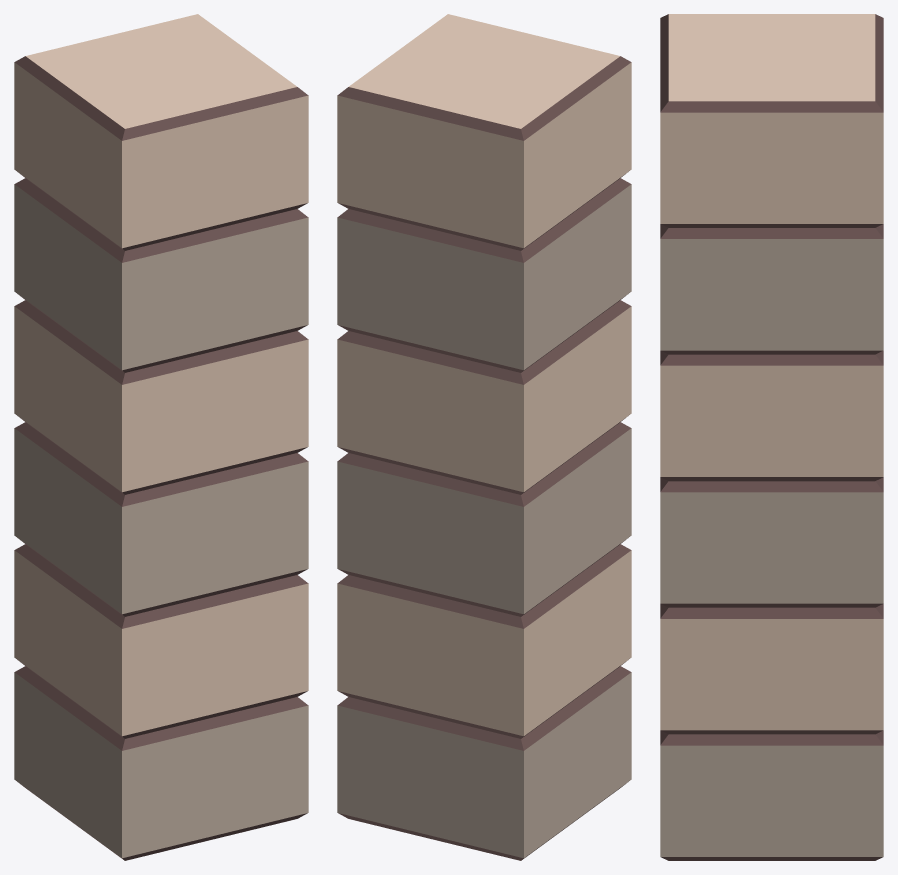
File: greek_wall_column_1.fbx
The picture shows the model from 3 angles, left to right: view 1: azimuth 30°, elevation 25°; view 2: azimuth 150°, elevation 25°; view 3: azimuth 270°, elevation 25°; orthographic projection. The views are drawn at different scales.
Parts seen in each view (by area): view 1: Cube.013; view 2: Cube.013; view 3: Cube.013.
Boxes of the visible parts, x1,y1,x2,y2 form: Cube.013: (14, 14, 308, 860); Cube.013: (337, 14, 631, 860); Cube.013: (660, 14, 883, 860).
Bounding box in the file's own units: 80 × 300 × 80.
